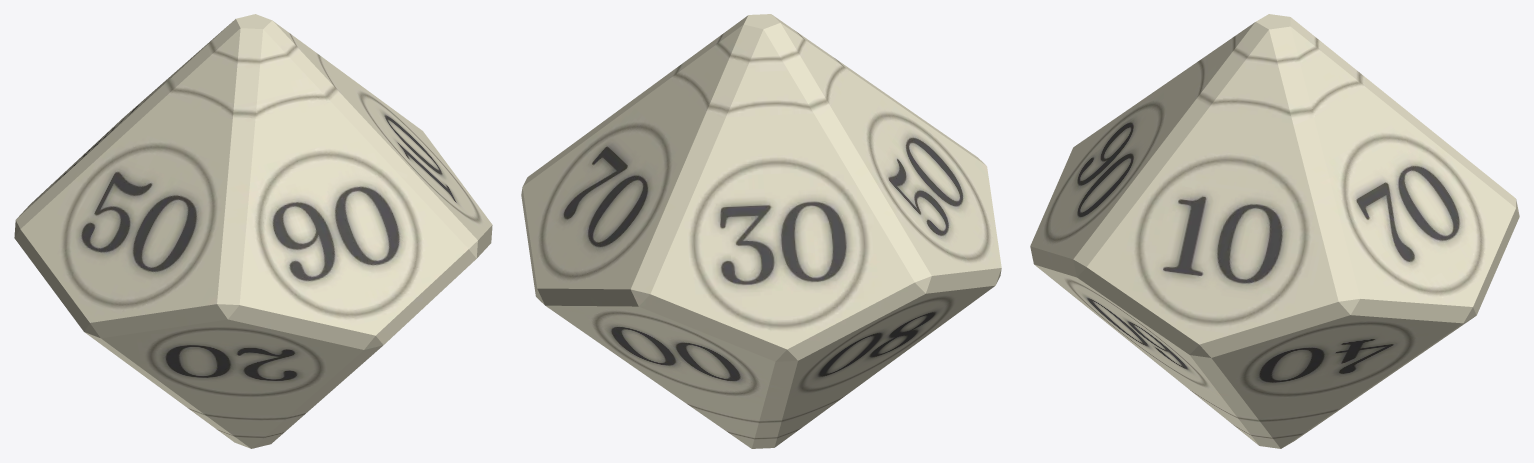
3 renders of one model, left to right at view 1: azimuth 30°, elevation 25°; view 2: azimuth 150°, elevation 25°; view 3: azimuth 270°, elevation 25°, orthographic.
Parts seen in each view (by area): view 1: D10x10; view 2: D10x10; view 3: D10x10.
Part boxes in pixels (x1,y1,x2,y2): D10x10: (14,14,492,448); D10x10: (521,14,1001,448); D10x10: (1030,14,1519,448).
Bounding box in the file's own units: 2.95 × 2.93 × 3.1.
Materials: 1 (1 with a texture image).
